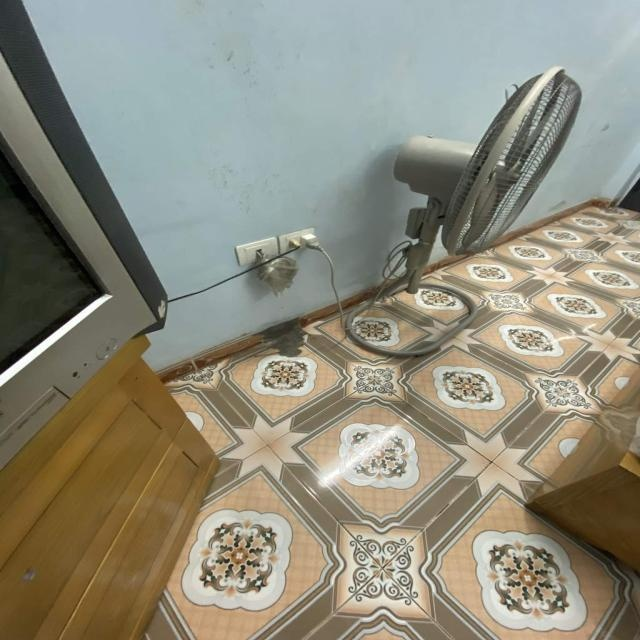outlet: (234, 236, 278, 266), (279, 227, 316, 255)
